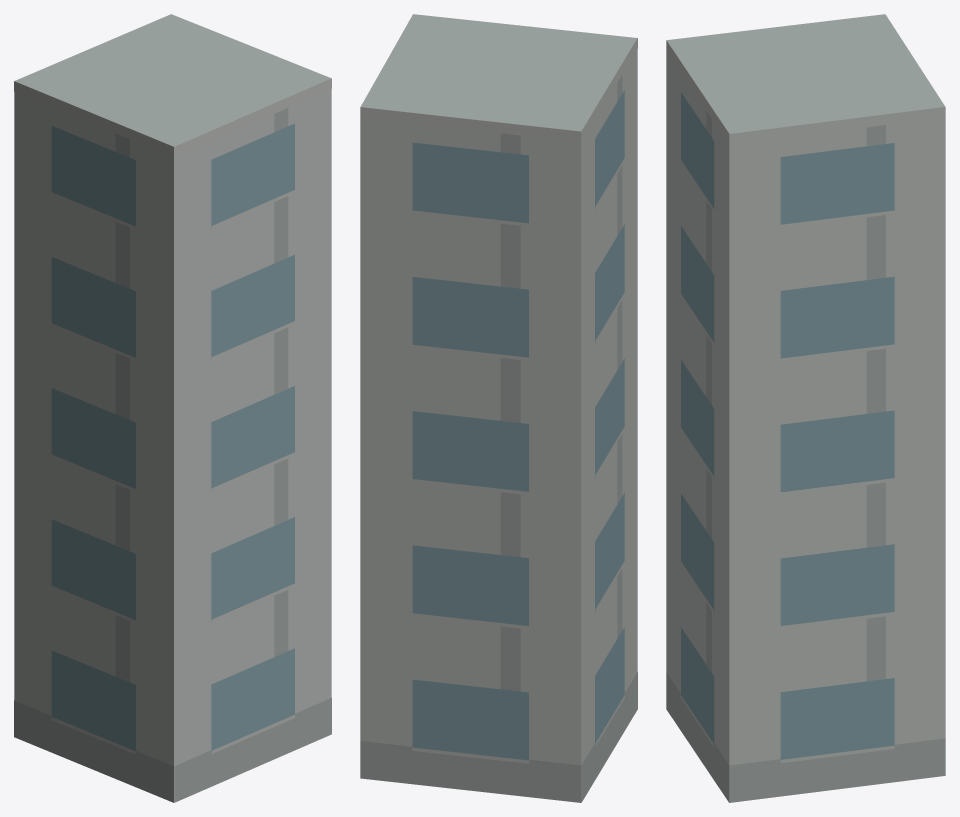
The model's file is survey-upis-32645765.glb.
3 views of the same model, side by side, from view 1: azimuth 30°, elevation 25°; view 2: azimuth 150°, elevation 25°; view 3: azimuth 270°, elevation 25° (orthographic). The views are drawn at different scales.
Visible parts, largest first — view 1: survey-upis-32645765.tmp; view 2: survey-upis-32645765.tmp; view 3: survey-upis-32645765.tmp.
Part boxes in pixels (x1,y1,x2,y2): survey-upis-32645765.tmp: (14, 14, 331, 802); survey-upis-32645765.tmp: (360, 14, 637, 802); survey-upis-32645765.tmp: (666, 14, 945, 802).
Bounding box in the file's own units: 5.87 × 15.25 × 5.78.
